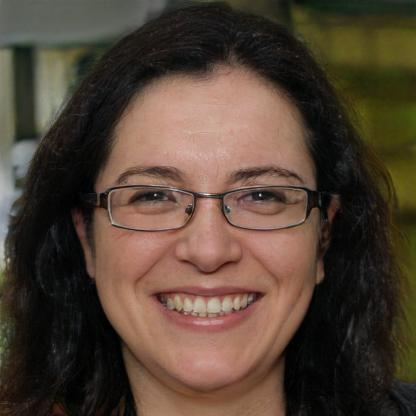glasses: (100, 182, 316, 236)
